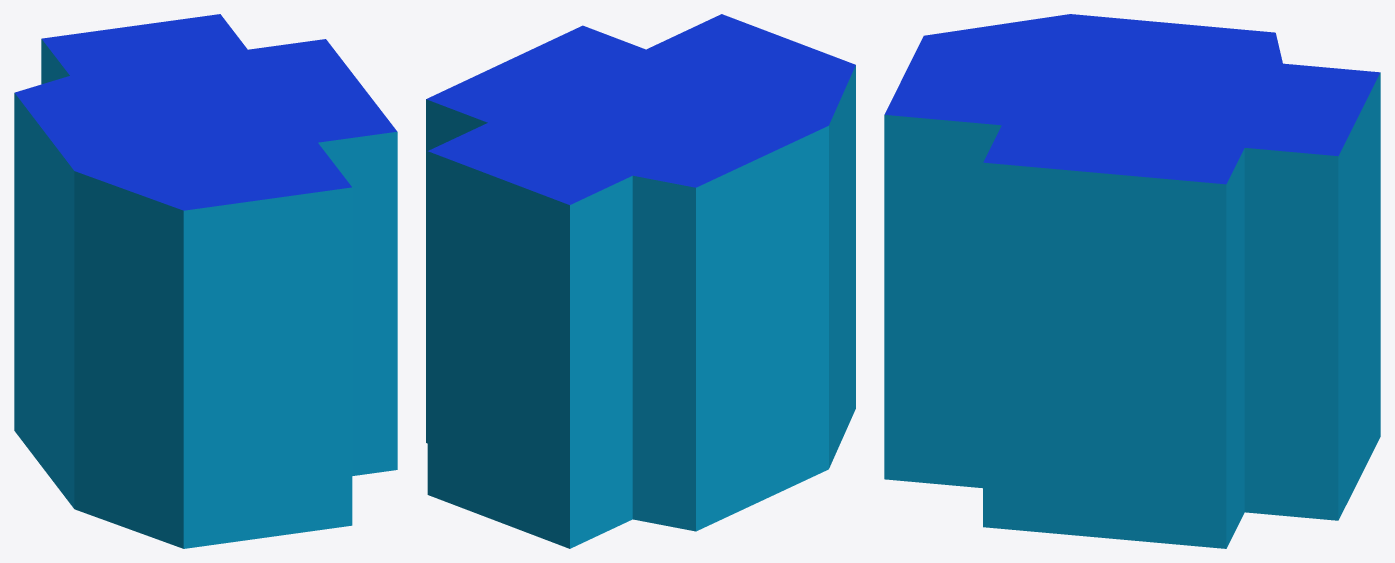
File: map_21.osm_buildings.003.gltf
3 renders of one model, left to right at view 1: azimuth 30°, elevation 25°; view 2: azimuth 150°, elevation 25°; view 3: azimuth 270°, elevation 25°, orthographic. The views are drawn at different scales.
Parts seen in each view (by area): view 1: map_21.osm_buildings.003; view 2: map_21.osm_buildings.003; view 3: map_21.osm_buildings.003.
Boxes of the visible parts, bbox=[...] form: map_21.osm_buildings.003: bbox=[14, 14, 397, 548]; map_21.osm_buildings.003: bbox=[426, 14, 855, 548]; map_21.osm_buildings.003: bbox=[884, 14, 1380, 548].
Size of the model in its own units: 16.1 by 16.07 by 19.81.
